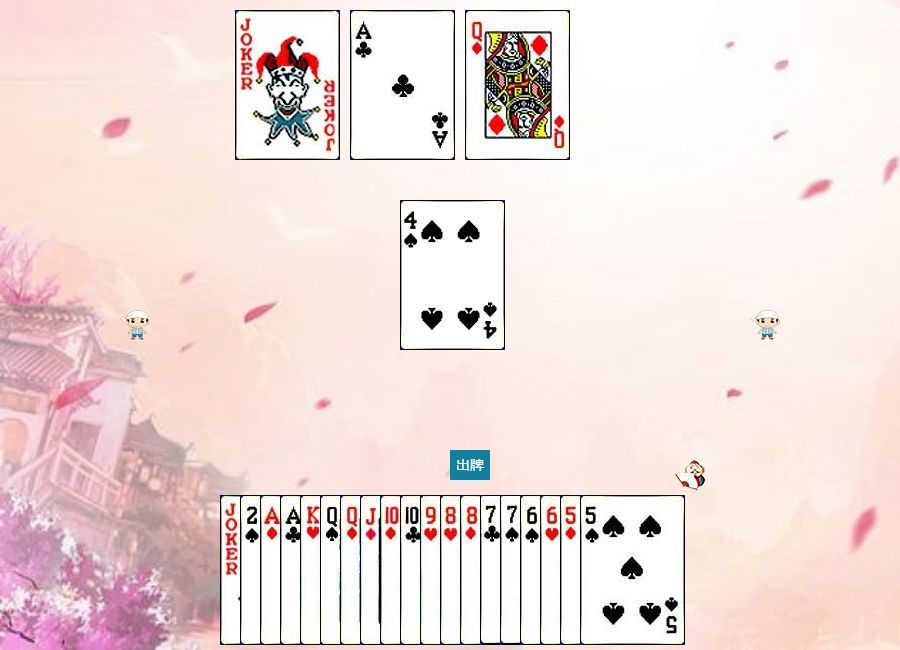10~1: (380, 495, 485, 645)
10~2: (400, 495, 505, 645)
11~1: (360, 495, 465, 645)
12~1: (465, 10, 570, 160), (340, 495, 445, 645)
12~4: (320, 495, 425, 645)
13~3: (300, 495, 405, 645)
14~1: (260, 495, 365, 645)
14~2: (350, 10, 455, 160), (280, 495, 385, 645)
15~4: (240, 495, 345, 645)
18~4: (235, 10, 340, 160), (220, 495, 325, 645)
4~4: (400, 200, 505, 350)
5~1: (560, 495, 665, 645)
5~4: (580, 495, 685, 645)
6~3: (540, 495, 645, 645)
6~4: (520, 495, 625, 645)
7~2: (480, 495, 585, 645)
7~4: (500, 495, 605, 645)
8~1: (460, 495, 565, 645)
8~3: (440, 495, 545, 645)
9~3: (420, 495, 525, 645)
